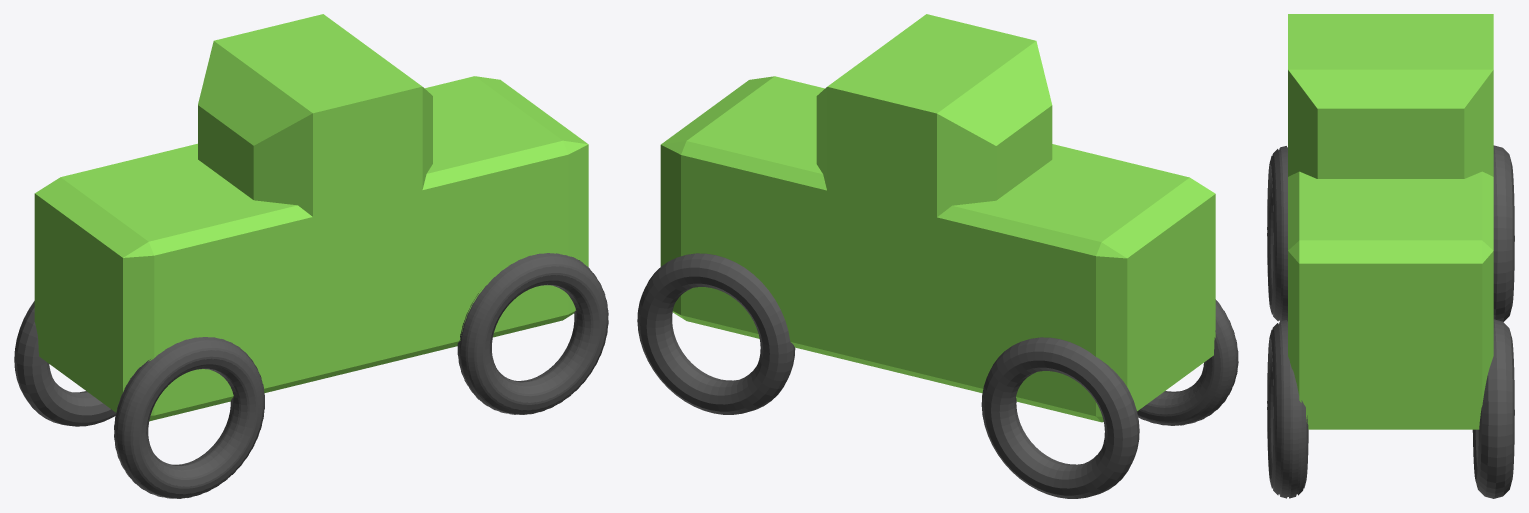
Rendered from car-demo.fbx.
3 renders of one model, left to right at view 1: azimuth 30°, elevation 25°; view 2: azimuth 150°, elevation 25°; view 3: azimuth 270°, elevation 25°, orthographic. The views are drawn at different scales.
Parts seen in each view (by area): view 1: Cubo, Cube, Torus, Torus.001, Torus.003; view 2: Cubo, Cube, Torus.003, Torus.002, Torus; view 3: Cubo, Cube, Torus.001, Torus.002, Torus.003, Torus.
Boxes of the visible parts, x1=… form: Cubo: x1=34, y1=76, x2=588, y2=421; Cube: x1=198, y1=14, x2=432, y2=292; Torus: x1=114, y1=337, x2=264, y2=498; Torus.001: x1=457, y1=253, x2=608, y2=414; Torus.003: x1=14, y1=301, x2=115, y2=426; Cubo: x1=660, y1=76, x2=1215, y2=422; Cube: x1=816, y1=14, x2=1052, y2=267; Torus.003: x1=981, y1=337, x2=1139, y2=498; Torus.002: x1=637, y1=253, x2=795, y2=414; Torus: x1=1137, y1=299, x2=1238, y2=425; Cubo: x1=1288, y1=171, x2=1493, y2=429; Cube: x1=1288, y1=14, x2=1493, y2=178; Torus.001: x1=1267, y1=320, x2=1308, y2=498; Torus.002: x1=1472, y1=319, x2=1514, y2=498; Torus.003: x1=1493, y1=145, x2=1514, y2=321; Torus: x1=1267, y1=146, x2=1287, y2=321.
Bounding box in the file's own units: 575 × 392 × 241.
